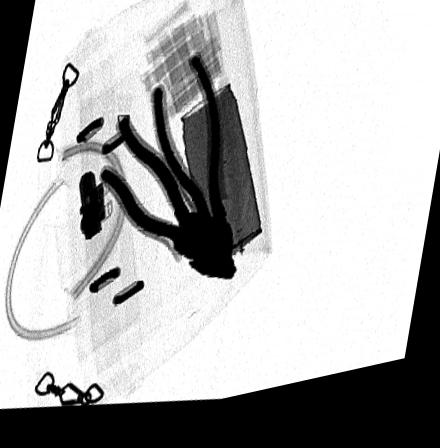Pliers: (98, 116, 240, 293), (149, 59, 235, 275)
